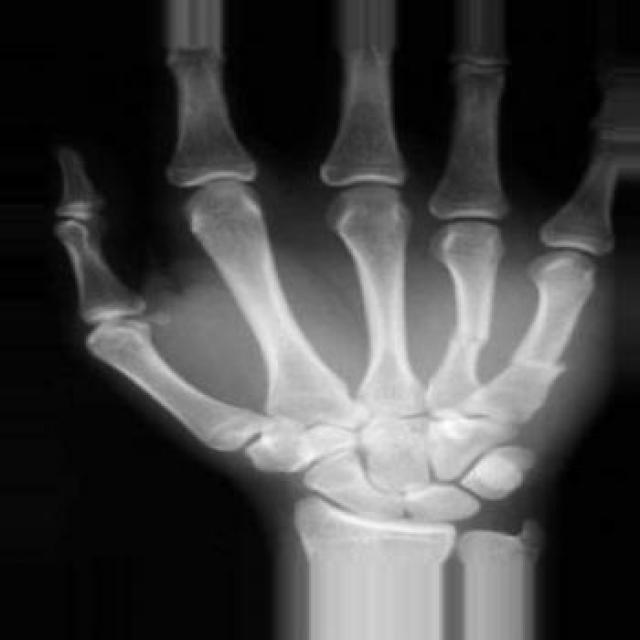Fracture: (512, 350, 576, 380), (446, 326, 499, 356)
